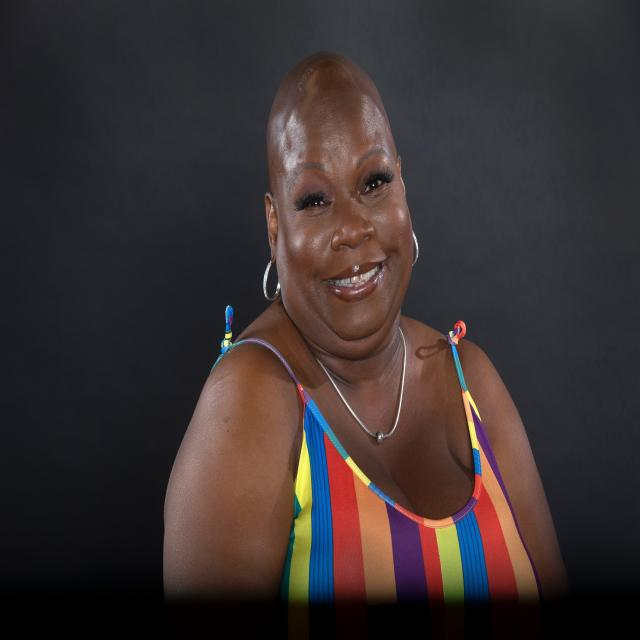bald: (252, 39, 410, 194)
